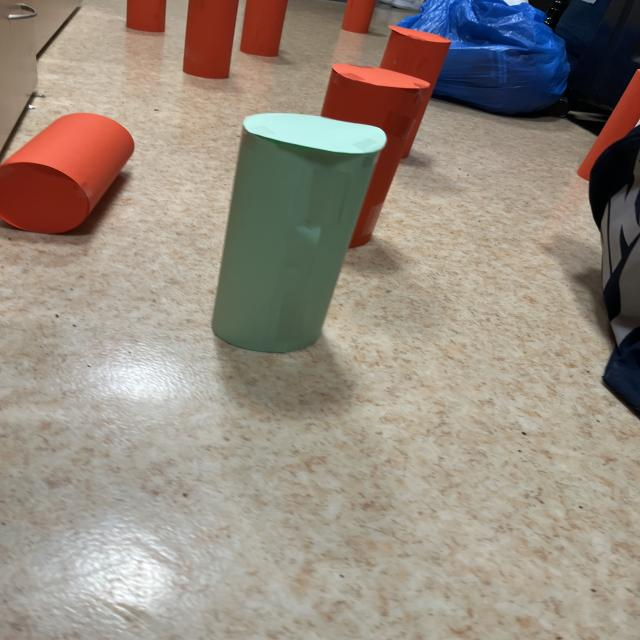meta: (212, 113, 386, 352)
przeszkoda: (321, 64, 430, 248), (0, 113, 134, 233), (379, 26, 451, 94), (183, 0, 238, 79), (240, 0, 287, 57), (126, 0, 166, 32), (342, 0, 376, 33)
